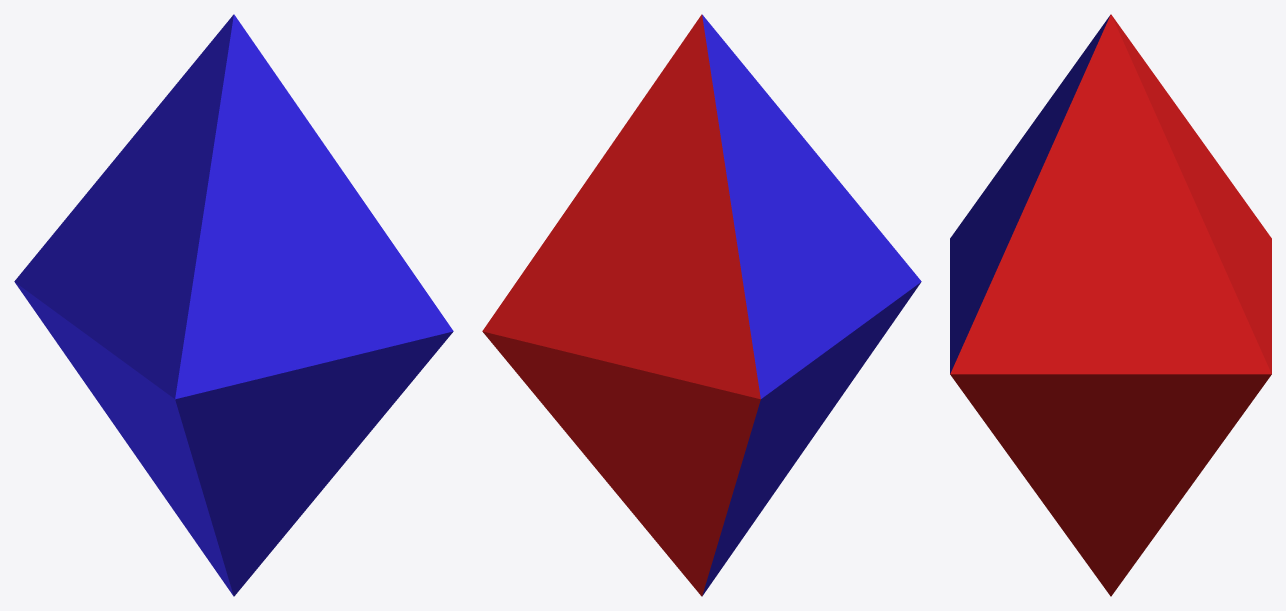
The model's file is Octahedaral.fbx.
3 views of the same model, side by side, from view 1: azimuth 30°, elevation 25°; view 2: azimuth 150°, elevation 25°; view 3: azimuth 270°, elevation 25° (orthographic).
Visible parts, largest first — view 1: Octahedaral; view 2: Octahedaral; view 3: Octahedaral.
Boxes of the visible parts, x1=… form: Octahedaral: x1=14, y1=14, x2=453, y2=596; Octahedaral: x1=482, y1=14, x2=921, y2=596; Octahedaral: x1=950, y1=14, x2=1271, y2=596.
Bounding box in the file's own units: 200 × 400 × 200.
